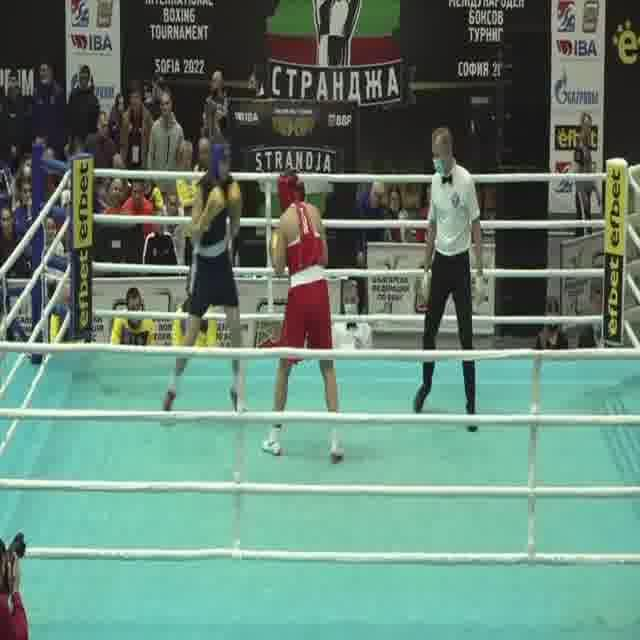blue-player: (158, 136, 248, 418)
red-player: (260, 168, 349, 466)
referee: (411, 124, 486, 435)
